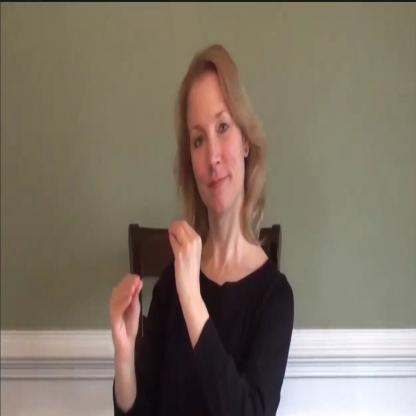Fix: (107, 214, 203, 344)
